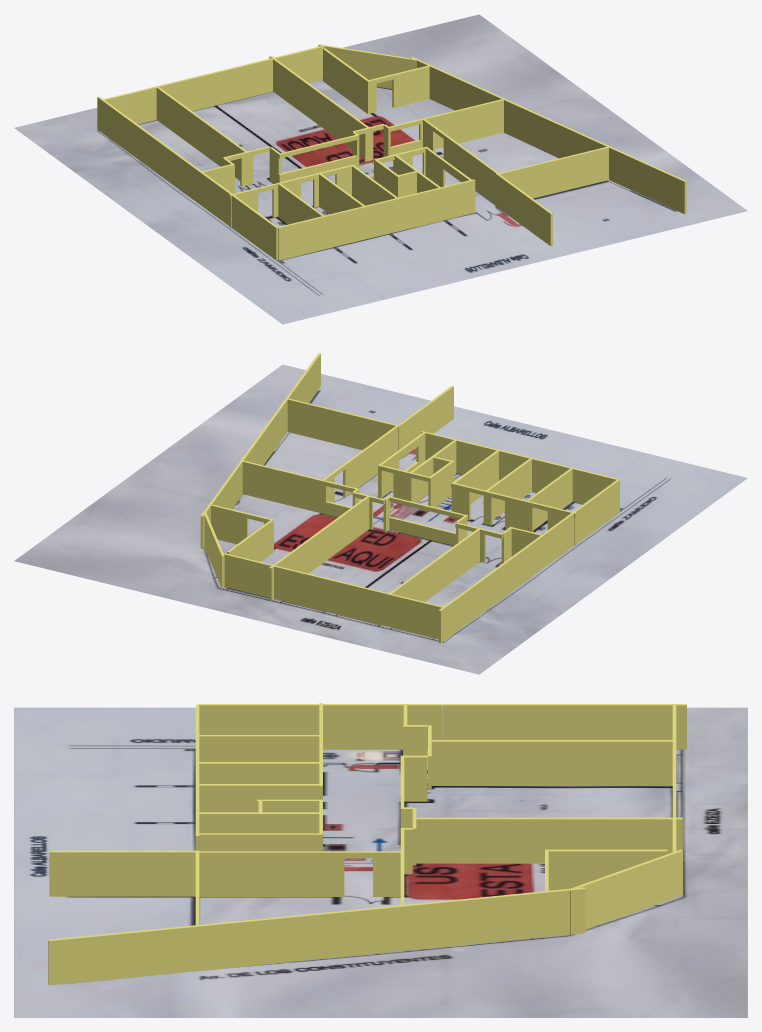
Rendered from Poli.fbx.
3 renders of one model, top to bottom at view 1: azimuth 30°, elevation 25°; view 2: azimuth 150°, elevation 25°; view 3: azimuth 270°, elevation 25°, orthographic. The views are drawn at different scales.
Visible parts, largest first — view 1: Piso, MuroBase__28_, MuroBase__5__1, MuroBase__2__1, MuroBase__3_, MuroBase__2_, MuroBase__3__1, MuroBase__25_, MuroBase__5_, MuroBase__1_, MuroBase__27_, MuroBase__18_ (+14 smaller); view 2: Piso, MuroBase__28_, MuroBase__2__1, MuroBase__2_, MuroBase__5_, MuroBase__25_, MuroBase__3__1, MuroBase__24_, MuroBase__26__1, MuroBase__5__1, MuroBase__3_, MuroBase (+17 smaller); view 3: Piso, MuroBase__28_, MuroBase__3__1, MuroBase__2_, MuroBase__1_, MuroBase, MuroBase__27_, MuroBase__19_, MuroBase__21_, MuroBase__20_, MuroBase__18_, MuroBase__10__1 (+9 smaller).
Part boxes in pixels (bbox=[...]): Piso: bbox=[14, 14, 747, 324]; MuroBase__28_: bbox=[409, 56, 686, 214]; MuroBase__5__1: bbox=[278, 202, 381, 260]; MuroBase__2__1: bbox=[496, 146, 608, 206]; MuroBase__3_: bbox=[381, 179, 475, 235]; MuroBase__2_: bbox=[269, 56, 368, 157]; MuroBase__3__1: bbox=[156, 86, 246, 180]; MuroBase__25_: bbox=[180, 62, 258, 111]; MuroBase__5_: bbox=[419, 98, 505, 148]; MuroBase__1_: bbox=[497, 174, 552, 246]; MuroBase__27_: bbox=[318, 44, 419, 88]; MuroBase__18_: bbox=[231, 195, 278, 260]; Piso: bbox=[14, 364, 747, 674]; MuroBase__28_: bbox=[200, 353, 320, 548]; MuroBase__2__1: bbox=[287, 398, 400, 450]; MuroBase__2_: bbox=[269, 496, 369, 600]; MuroBase__5_: bbox=[241, 460, 327, 514]; MuroBase__25_: bbox=[288, 569, 366, 621]; MuroBase__3__1: bbox=[389, 528, 479, 601]; MuroBase__24_: bbox=[366, 588, 443, 638]; MuroBase__26__1: bbox=[223, 553, 292, 602]; MuroBase__5__1: bbox=[514, 453, 618, 503]; MuroBase__3_: bbox=[421, 431, 514, 480]; MuroBase: bbox=[343, 425, 398, 497]; Piso: bbox=[14, 707, 747, 1017]; MuroBase__28_: bbox=[48, 887, 585, 985]; MuroBase__3__1: bbox=[430, 740, 674, 785]; MuroBase__2_: bbox=[416, 817, 682, 863]; MuroBase__1_: bbox=[49, 850, 195, 896]; MuroBase: bbox=[199, 851, 344, 896]; MuroBase__27_: bbox=[568, 849, 682, 934]; MuroBase__19_: bbox=[320, 704, 441, 749]; MuroBase__21_: bbox=[564, 704, 686, 749]; MuroBase__20_: bbox=[442, 704, 564, 739]; MuroBase__18_: bbox=[197, 704, 319, 734]; MuroBase__10__1: bbox=[197, 735, 319, 761].
Bounding box in the file's own units: 6000 × 400 × 6000.
3 materials, 1 textured.
